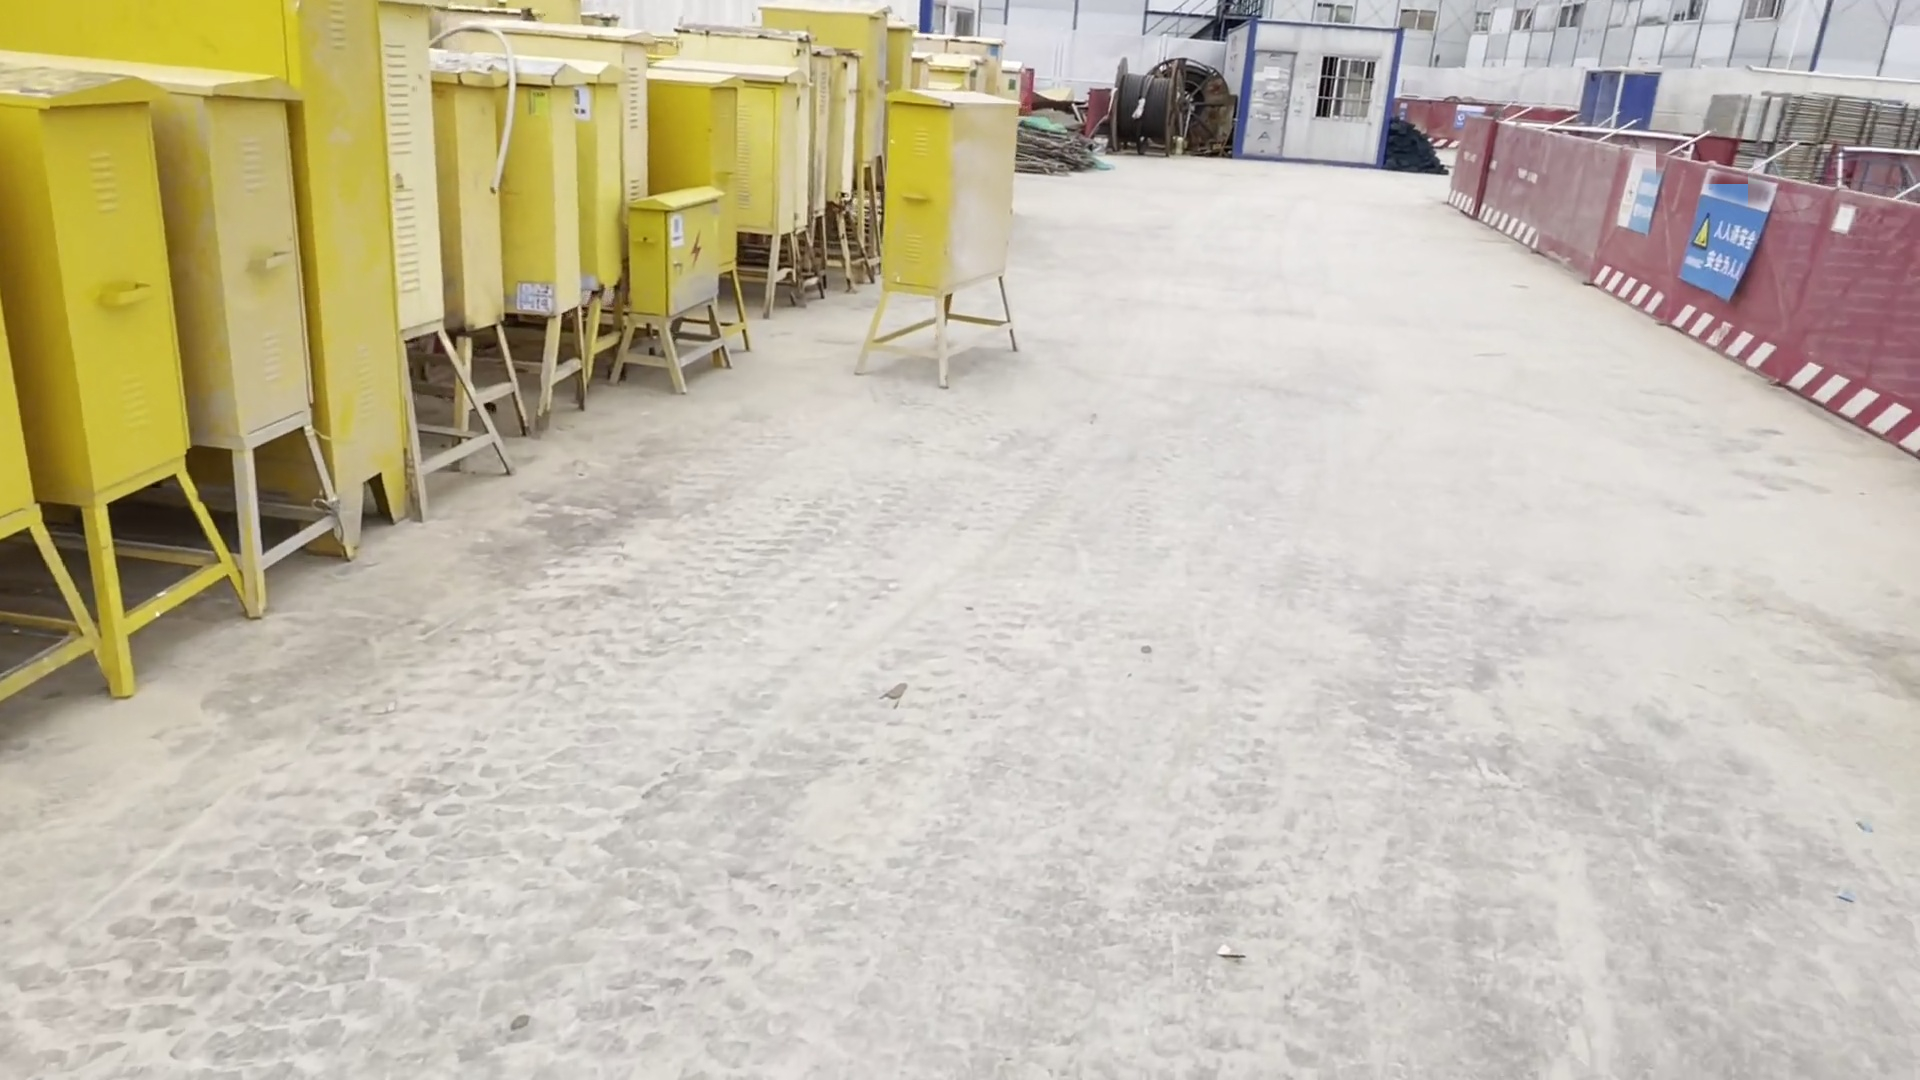ebox: (1, 12, 435, 530), (63, 61, 258, 700), (214, 26, 330, 624), (853, 88, 1040, 393), (607, 175, 738, 396)
fence: (1783, 181, 1920, 459), (1687, 157, 1789, 398), (1433, 109, 1586, 268), (1585, 144, 1685, 334)
slogan: (1691, 193, 1771, 293)
